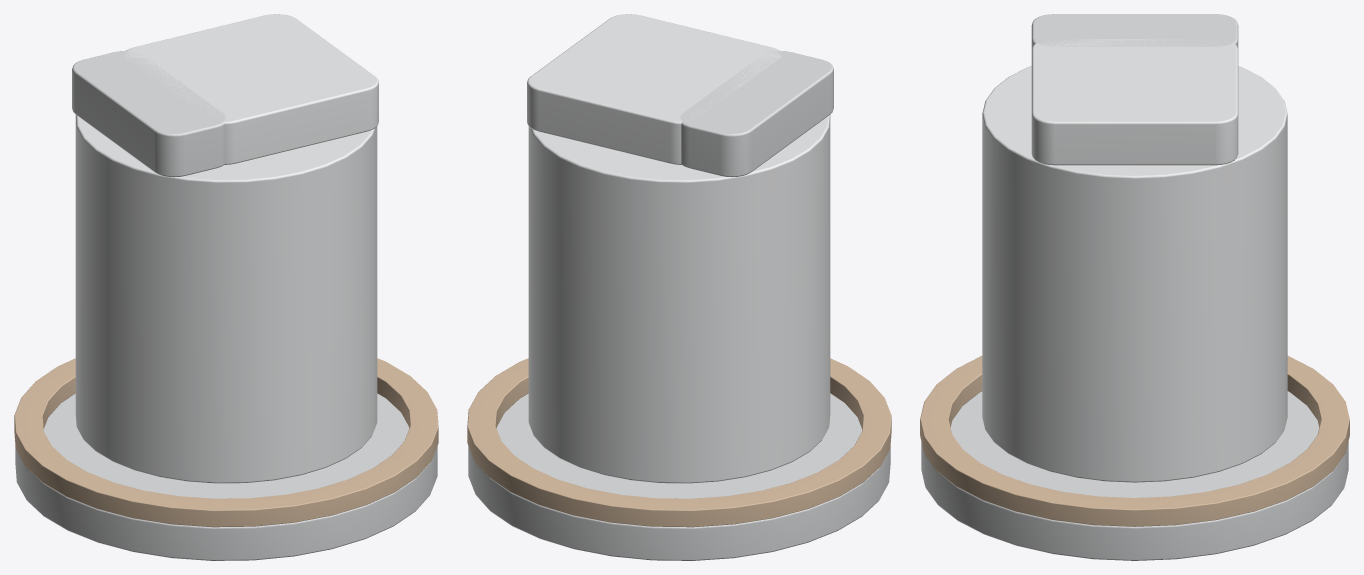
Rendered from case07_enceinte_acoustique_spatial_decomposed.glb.
3 views of the same model, side by side, from view 1: azimuth 30°, elevation 25°; view 2: azimuth 150°, elevation 25°; view 3: azimuth 270°, elevation 25° (orthographic).
Parts seen in each view (by area): view 1: Corps_Revolved_Strate_4, Corps_Revolved_Strate_2, Element_Lateral_5_2, Bague_Collier_Cerclage_3, Element_Lateral_5_1; view 2: Corps_Revolved_Strate_4, Corps_Revolved_Strate_2, Element_Lateral_5_2, Bague_Collier_Cerclage_3, Element_Lateral_5_1; view 3: Corps_Revolved_Strate_4, Element_Lateral_5_2, Corps_Revolved_Strate_2, Bague_Collier_Cerclage_3, Element_Lateral_5_1.
Boxes of the visible parts, x1,y1,x2,y2 form: Corps_Revolved_Strate_4: (75, 115, 377, 483); Corps_Revolved_Strate_2: (15, 393, 437, 560); Element_Lateral_5_2: (124, 14, 378, 164); Bague_Collier_Cerclage_3: (14, 358, 438, 527); Element_Lateral_5_1: (72, 51, 225, 177); Corps_Revolved_Strate_4: (528, 115, 830, 483); Corps_Revolved_Strate_2: (468, 393, 890, 560); Element_Lateral_5_2: (527, 14, 781, 164); Bague_Collier_Cerclage_3: (467, 358, 891, 527); Element_Lateral_5_1: (680, 51, 833, 177); Corps_Revolved_Strate_4: (982, 66, 1287, 482); Element_Lateral_5_2: (1031, 38, 1238, 165); Corps_Revolved_Strate_2: (921, 391, 1348, 560); Bague_Collier_Cerclage_3: (920, 356, 1349, 526); Element_Lateral_5_1: (1031, 14, 1238, 49).
Bounding box in the file's own units: 0.1852 × 0.2 × 0.1852.
